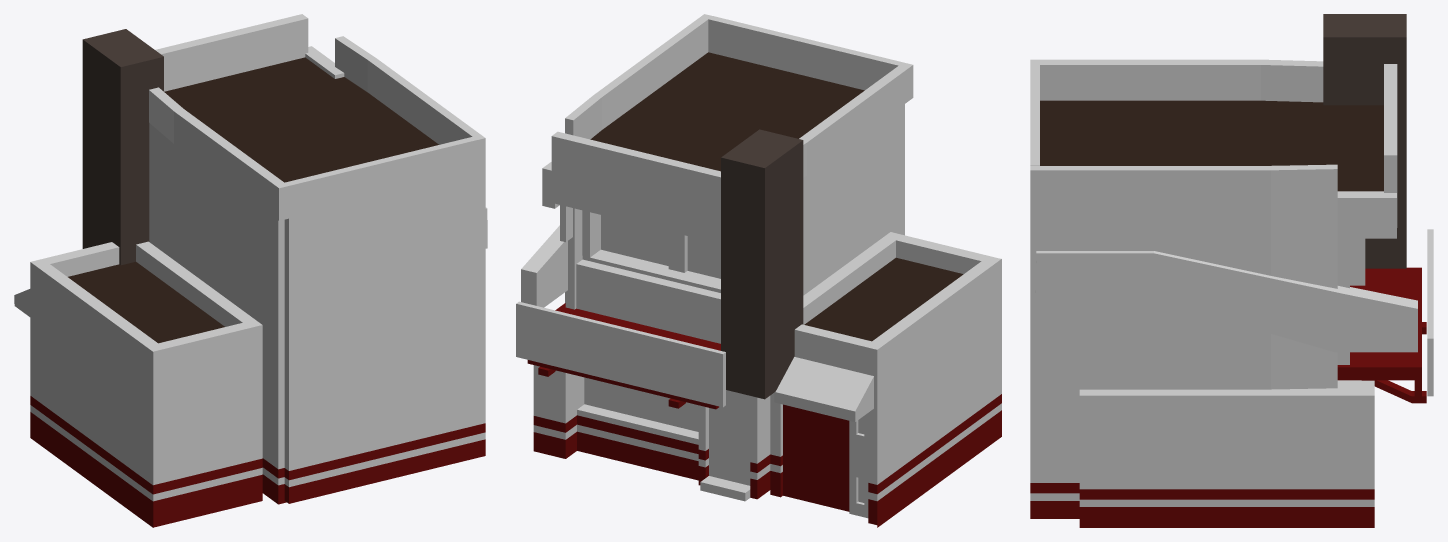
The model's file is house_autoparts.fbx.
3 renders of one model, left to right at view 1: azimuth 30°, elevation 25°; view 2: azimuth 150°, elevation 25°; view 3: azimuth 270°, elevation 25°, orthographic. The views are drawn at different scales.
Parts seen in each view (by area): view 1: house_autoparts; view 2: house_autoparts; view 3: house_autoparts.
Boxes of the visible parts, bbox=[...] form: house_autoparts: bbox=[14, 14, 487, 527]; house_autoparts: bbox=[516, 14, 1001, 527]; house_autoparts: bbox=[1030, 14, 1433, 527].
Size of the model in its own units: 523 by 550 by 513.
